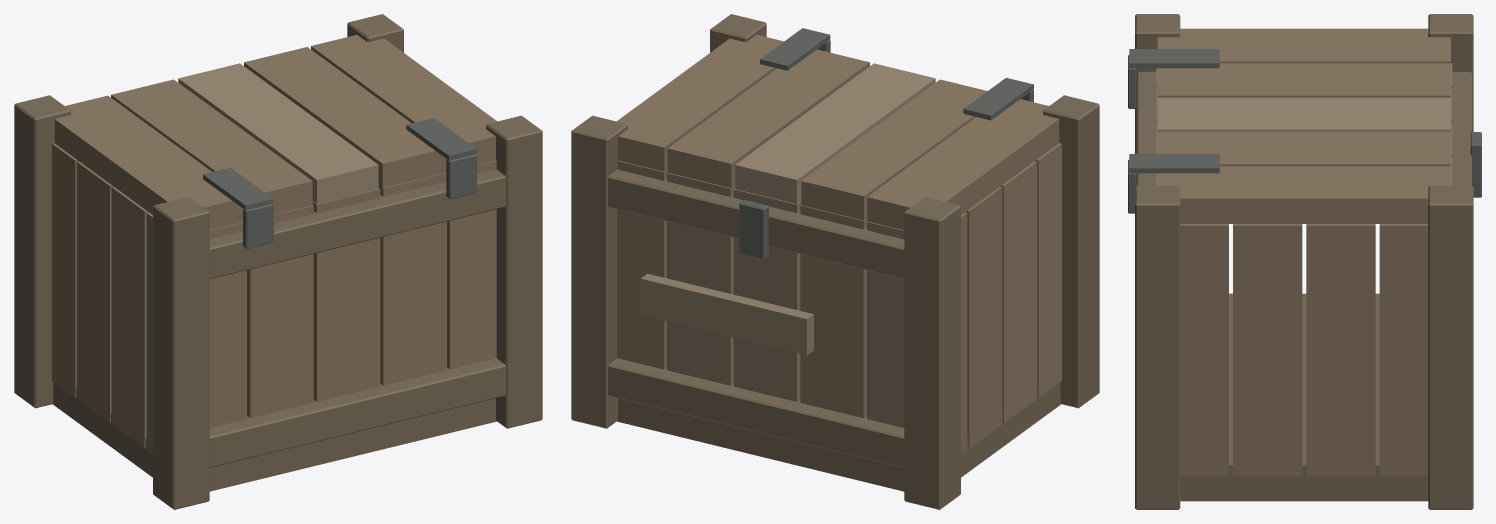
The model's file is env_crate_v11_hinged_lid.glb.
3 views of the same model, side by side, from view 1: azimuth 30°, elevation 25°; view 2: azimuth 150°, elevation 25°; view 3: azimuth 270°, elevation 25° (orthographic). The views are drawn at different scales.
Parts seen in each view (by area): view 1: material_0, material_2, material_1, material_5, material_3; view 2: material_2, material_0, material_5, material_1, material_6, material_3; view 3: material_0, material_2, material_1, material_3.
Part boxes in pixels (bbox=[...]): material_0: bbox=[52, 35, 497, 467]; material_2: bbox=[14, 14, 542, 509]; material_1: bbox=[178, 63, 378, 203]; material_5: bbox=[111, 187, 152, 454]; material_3: bbox=[203, 118, 476, 248]; material_2: bbox=[571, 14, 1099, 509]; material_0: bbox=[616, 35, 1059, 457]; material_5: bbox=[667, 143, 1061, 467]; material_1: bbox=[735, 63, 935, 203]; material_6: bbox=[640, 273, 813, 355]; material_3: bbox=[739, 28, 1033, 259]; material_0: bbox=[1156, 28, 1452, 476]; material_2: bbox=[1135, 14, 1473, 509]; material_1: bbox=[1157, 97, 1450, 131]; material_3: bbox=[1128, 49, 1481, 213].
Bounding box in the file's own units: 0.8 × 0.6 × 0.6275.
